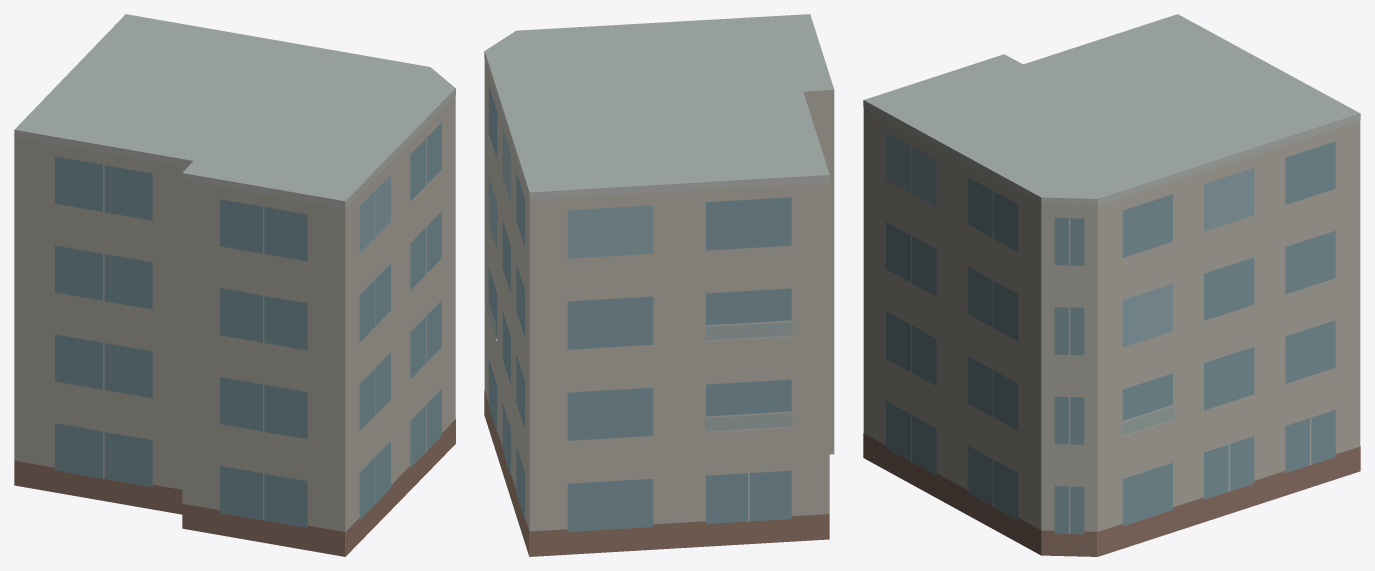
The model's file is residential-42f0833e-8327-4038-a4f9-ca0656f85e73.glb.
3 views of the same model, side by side, from view 1: azimuth 30°, elevation 25°; view 2: azimuth 150°, elevation 25°; view 3: azimuth 270°, elevation 25° (orthographic). The views are drawn at different scales.
Parts seen in each view (by area): view 1: residential-42f0833e-8327-4038-a4f9-ca0656f85e73.tmp; view 2: residential-42f0833e-8327-4038-a4f9-ca0656f85e73.tmp; view 3: residential-42f0833e-8327-4038-a4f9-ca0656f85e73.tmp.
Boxes of the visible parts, box(x1,y1,x2,y2) form: residential-42f0833e-8327-4038-a4f9-ca0656f85e73.tmp: box(14, 14, 455, 556); residential-42f0833e-8327-4038-a4f9-ca0656f85e73.tmp: box(484, 14, 834, 556); residential-42f0833e-8327-4038-a4f9-ca0656f85e73.tmp: box(863, 14, 1360, 556).
Size of the model in its own units: 12.97 by 11.7 by 14.73.
